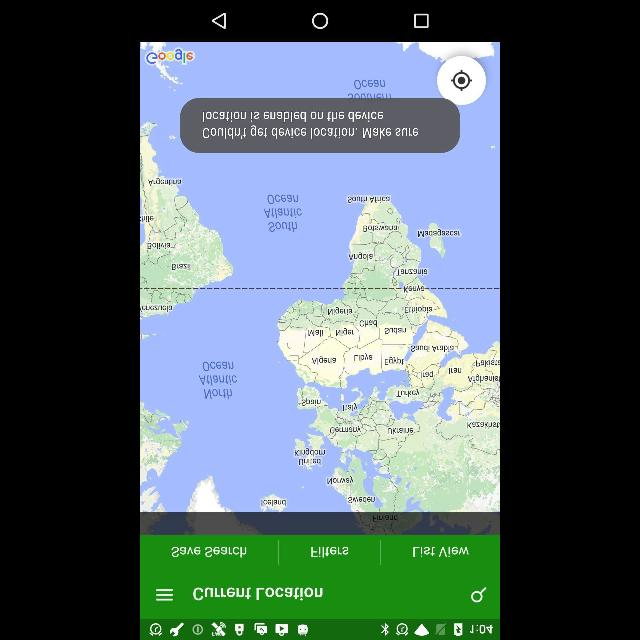icon: (452, 70, 472, 92), (469, 586, 487, 604), (210, 12, 228, 30), (311, 13, 329, 29), (154, 588, 174, 602), (413, 13, 429, 29)
map: (140, 42, 500, 536)
multitab: (142, 538, 500, 580)
panel: (140, 1, 500, 41)
text: (192, 586, 324, 602)
toolbar: (141, 581, 499, 619)
uppertaskbar: (140, 620, 500, 640)
